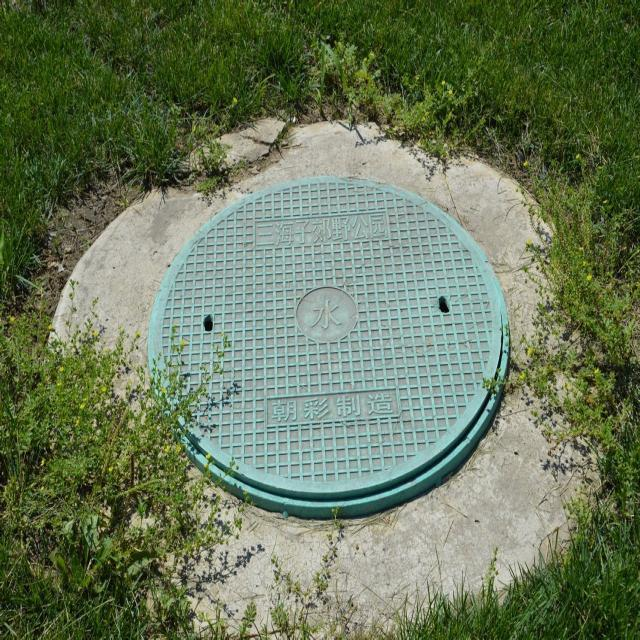manhole: (142, 174, 513, 524)
